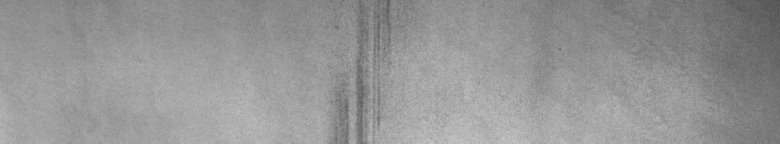ka: (331, 4, 399, 136)
